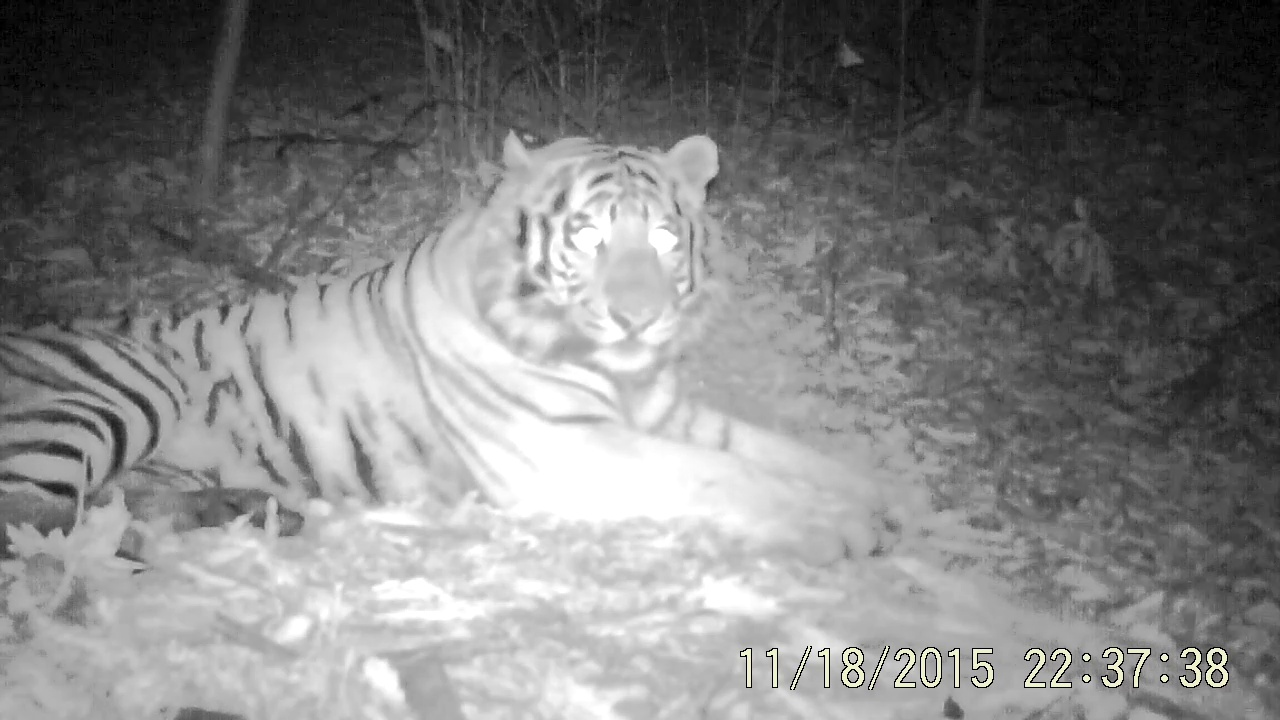Tiger: (7, 20, 956, 641)
